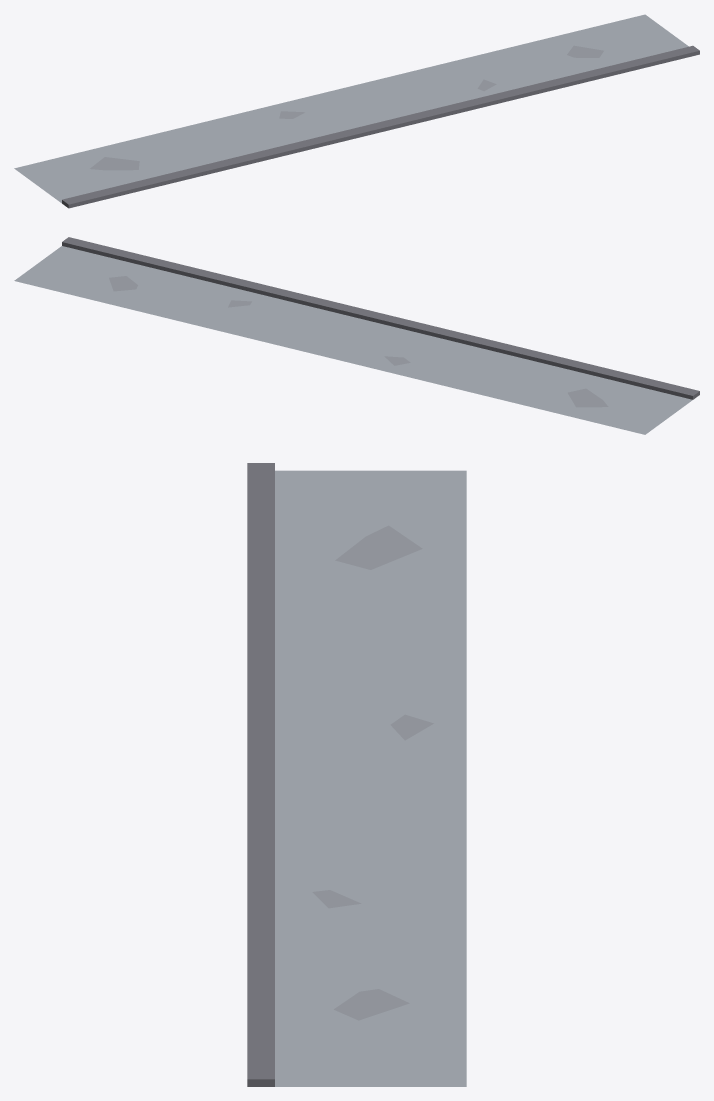
File: Side_Way3.fbx
3 renders of one model, top to bottom at view 1: azimuth 30°, elevation 25°; view 2: azimuth 150°, elevation 25°; view 3: azimuth 270°, elevation 25°, orthographic. The views are drawn at different scales.
Visible parts, largest first — view 1: Side_Way3; view 2: Side_Way3; view 3: Side_Way3.
Part boxes in pixels (box(x1,y1,x2,y2)): Side_Way3: box(14, 14, 699, 208); Side_Way3: box(14, 237, 699, 434); Side_Way3: box(247, 463, 466, 1086).
Size of the model in its own units: 1500 by 8.75 by 225.
